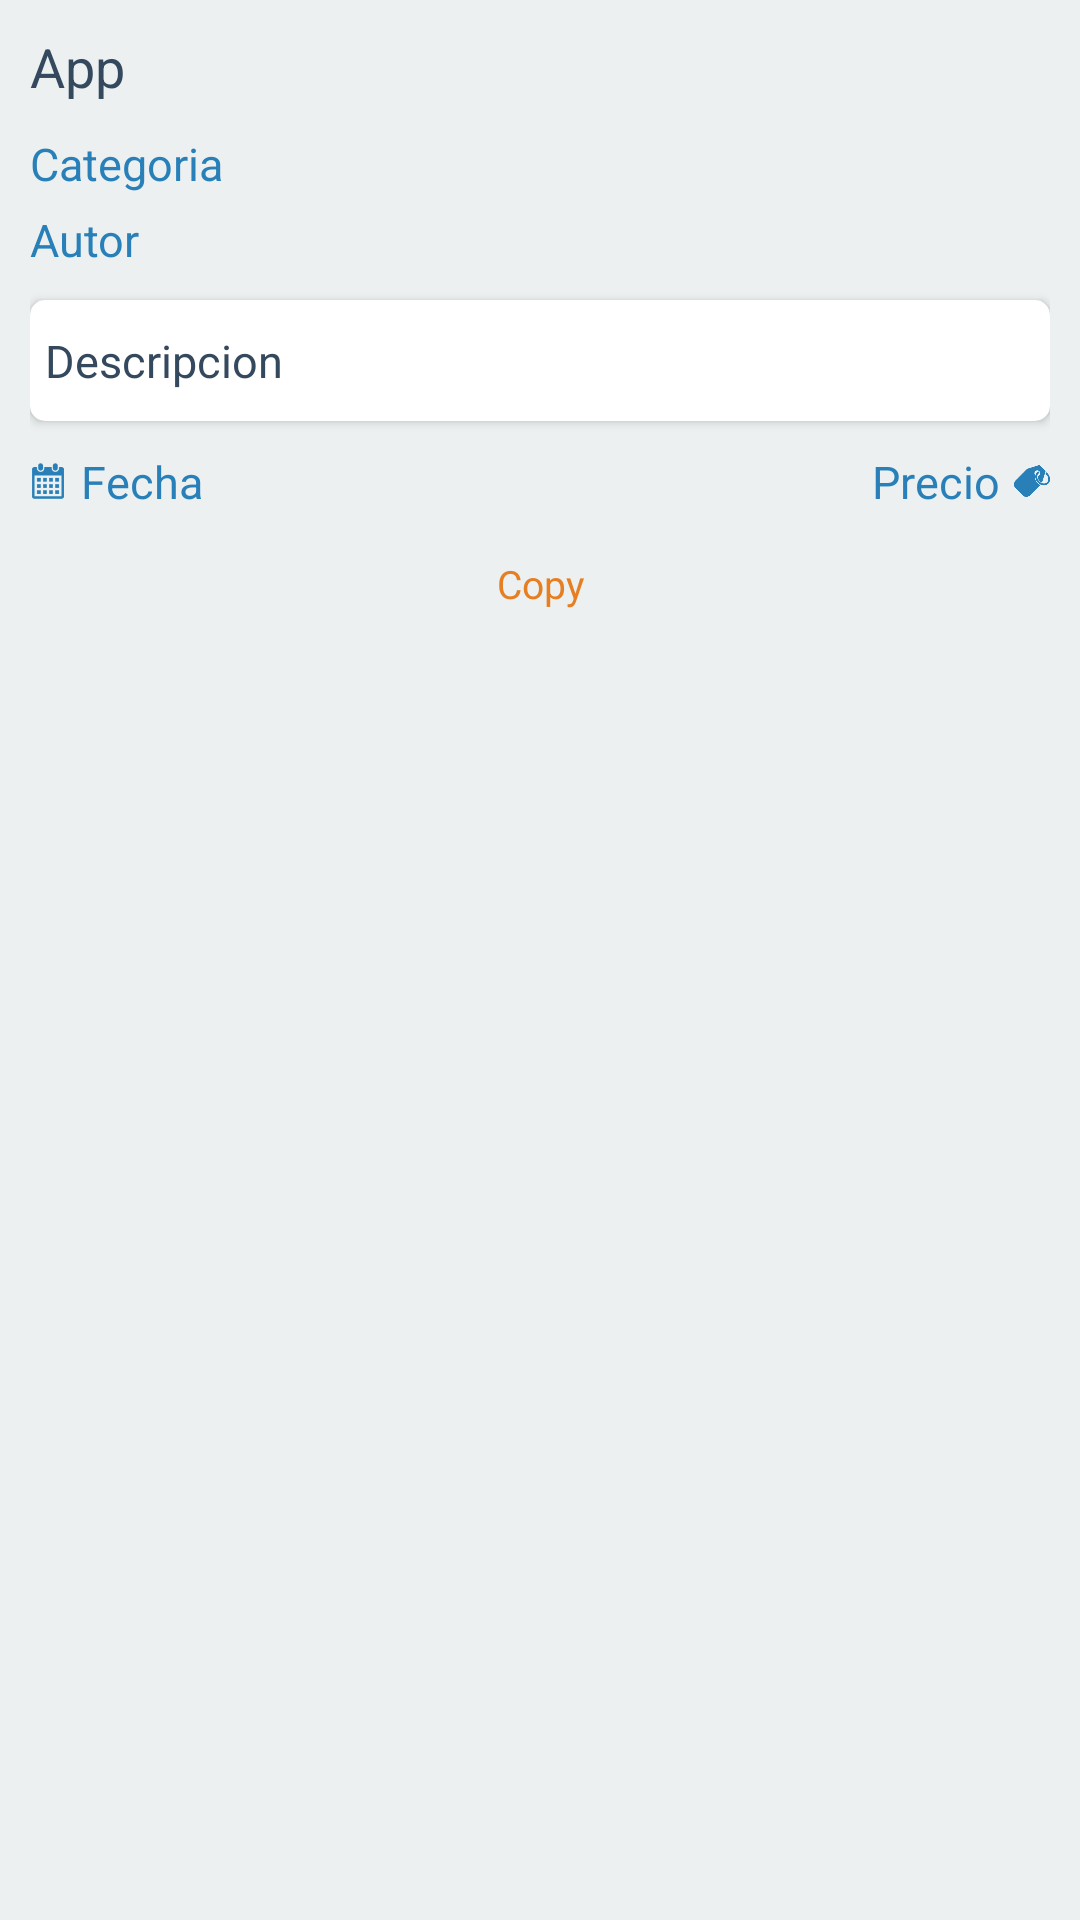

Named icons in this screenshot (1080px×1920px) and their centers, [x,y]:
calendar: [48,481]
price: [1032,481]
